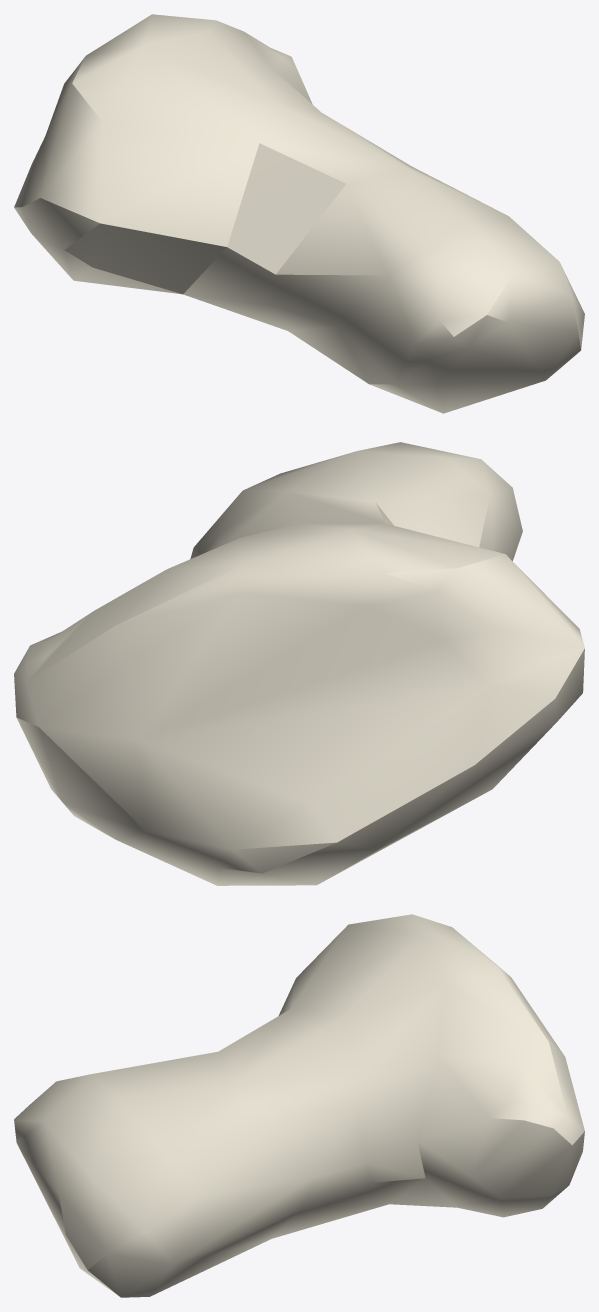
File: fma32659_fj3185.glb
3 renders of one model, top to bottom at view 1: azimuth 30°, elevation 25°; view 2: azimuth 150°, elevation 25°; view 3: azimuth 270°, elevation 25°, orthographic. The views are drawn at different scales.
Parts seen in each view (by area): view 1: FMA32659_FJ3185; view 2: FMA32659_FJ3185; view 3: FMA32659_FJ3185.
Boxes of the visible parts, x1,y1,x2,y2 form: FMA32659_FJ3185: [14, 14, 584, 413]; FMA32659_FJ3185: [14, 442, 584, 885]; FMA32659_FJ3185: [14, 914, 584, 1297].
Size of the model in its own units: 0.0081 by 0.00535 by 0.0104.
